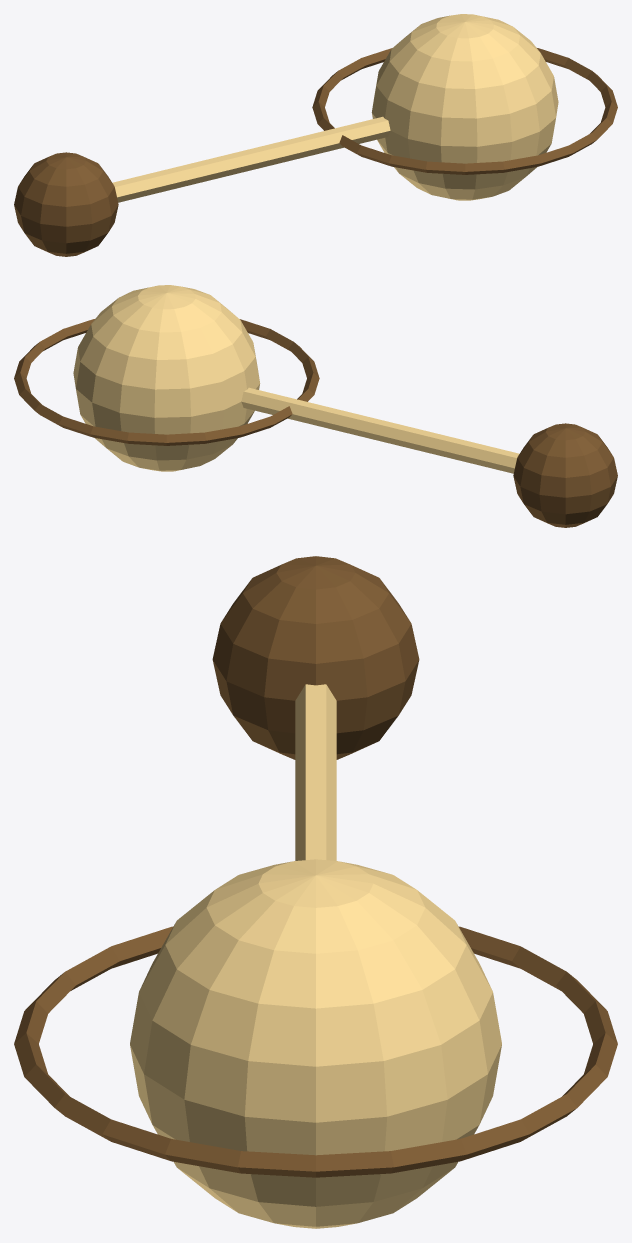
Rendered from OrreryPlanet.fbx.
The picture shows the model from 3 angles, top to bottom: view 1: azimuth 30°, elevation 25°; view 2: azimuth 150°, elevation 25°; view 3: azimuth 270°, elevation 25°; orthographic projection. The views are drawn at different scales.
Parts seen in each view (by area): view 1: OrreryPlanet; view 2: OrreryPlanet; view 3: OrreryPlanet.
Part boxes in pixels (x1,y1,x2,y2): OrreryPlanet: (14,14,617,256); OrreryPlanet: (14,285,617,527); OrreryPlanet: (14,556,617,1228).
Bounding box in the file's own units: 3.18 × 0.9 × 1.46.
